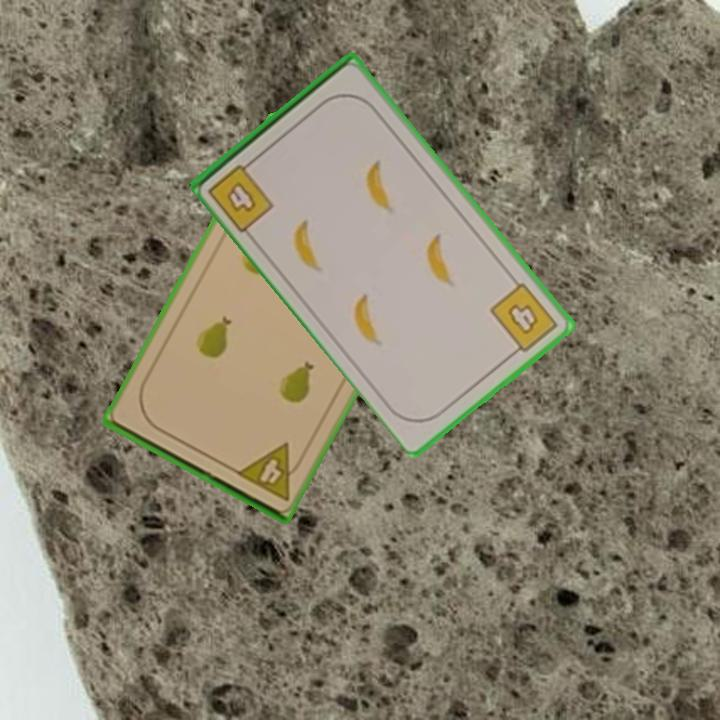4b: (486, 278, 561, 360), (204, 154, 278, 235)
4p: (232, 439, 308, 504)
